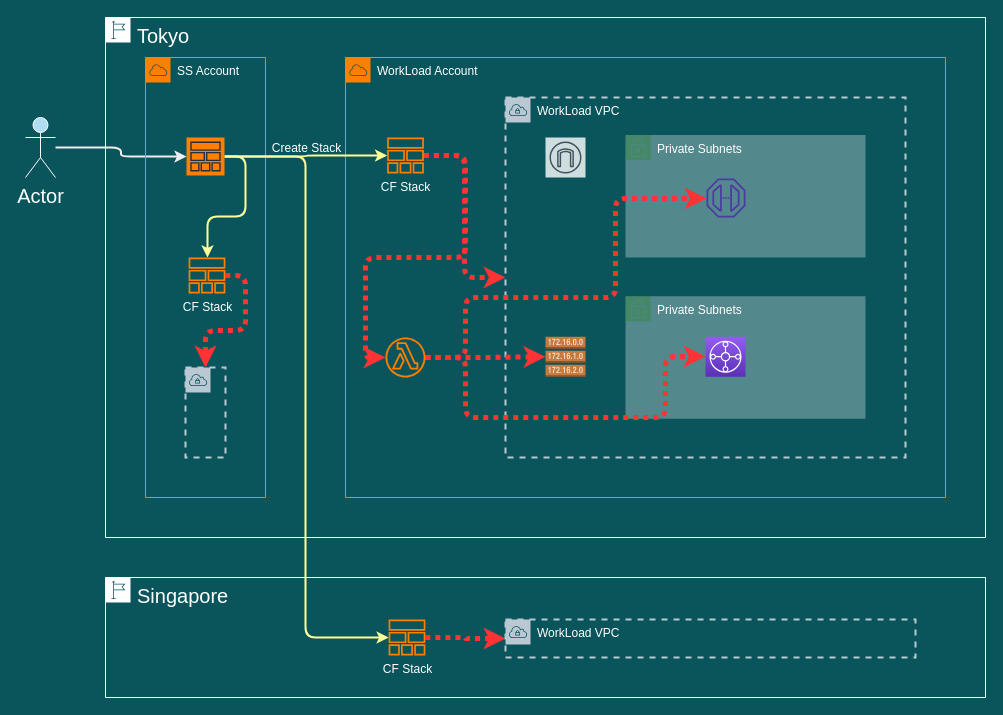
This 1003x715 diagram has some shape labels left out. Here are the shapes that lost their labels. From the top down, the centre of each, then its label:
the point at 205,156: Stack Set
the point at 565,157: Internet gateway
the point at 725,197: End point
the point at 405,357: Lambda
the point at 565,356: Route table
the point at 725,356: TGW Attachment
